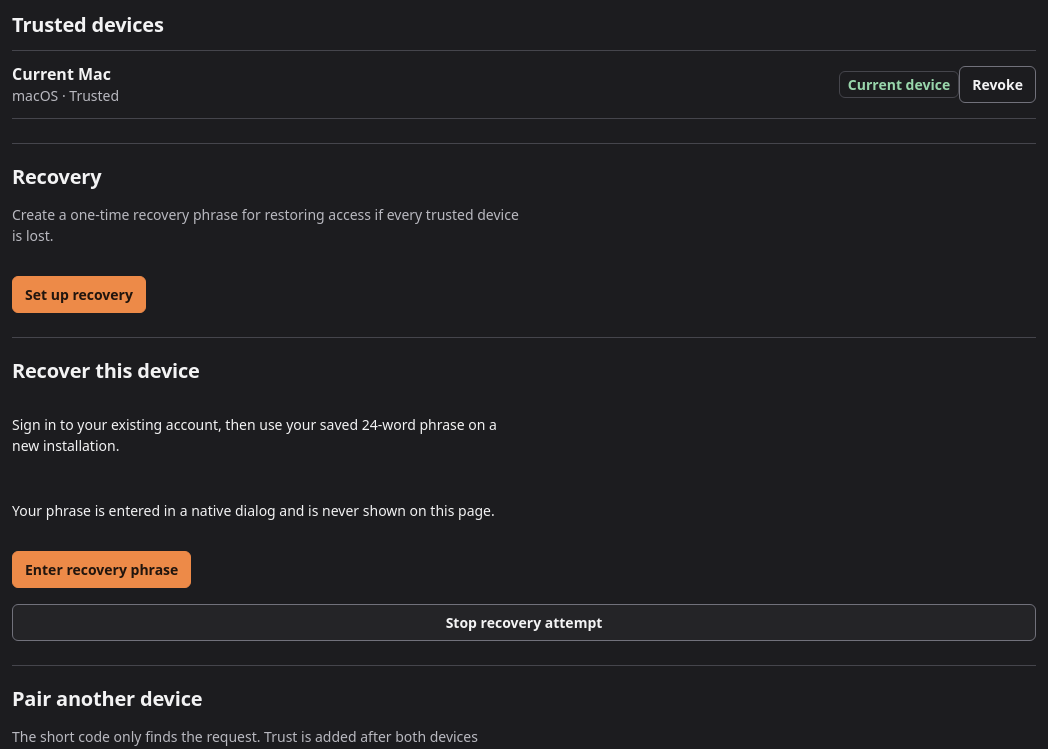
Test: DevicesScreen › keeps an unknown confirmation outcome closed until status can be retried
Click the button "Set up recovery" at (79, 295), box [12,276,146,313]
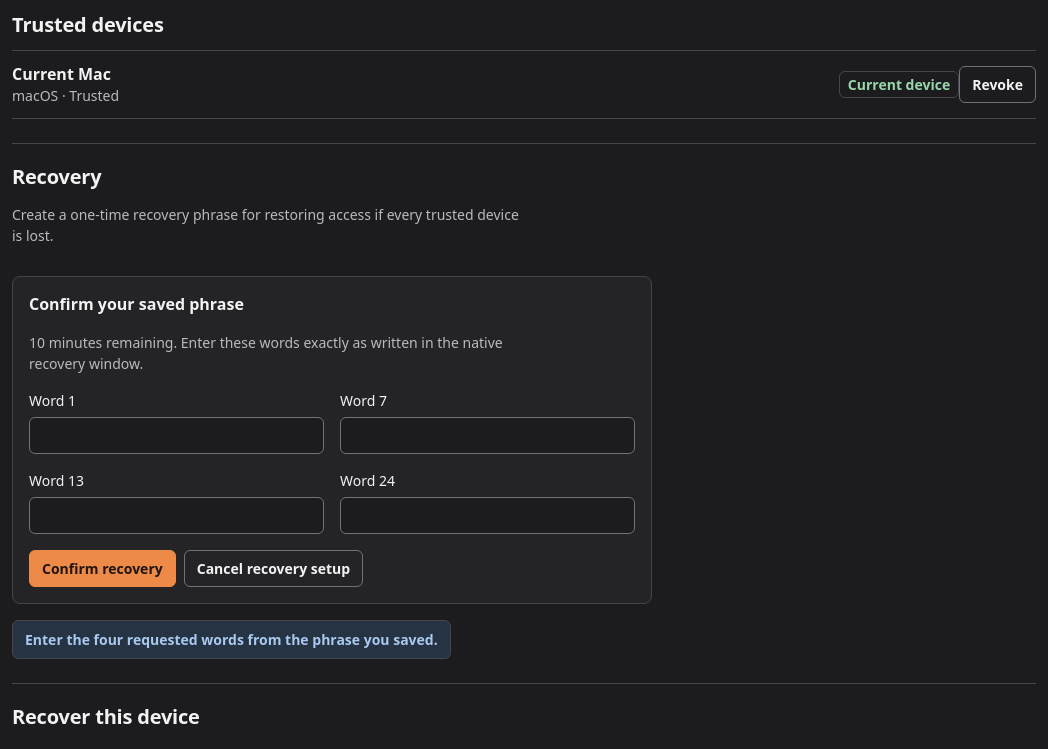
Type "abandon" into the field labelled "Word 1" at (176, 435), box [29,417,324,454]
Type "ability" into the field labelled "Word 7" at (488, 435), box [340,417,635,454]
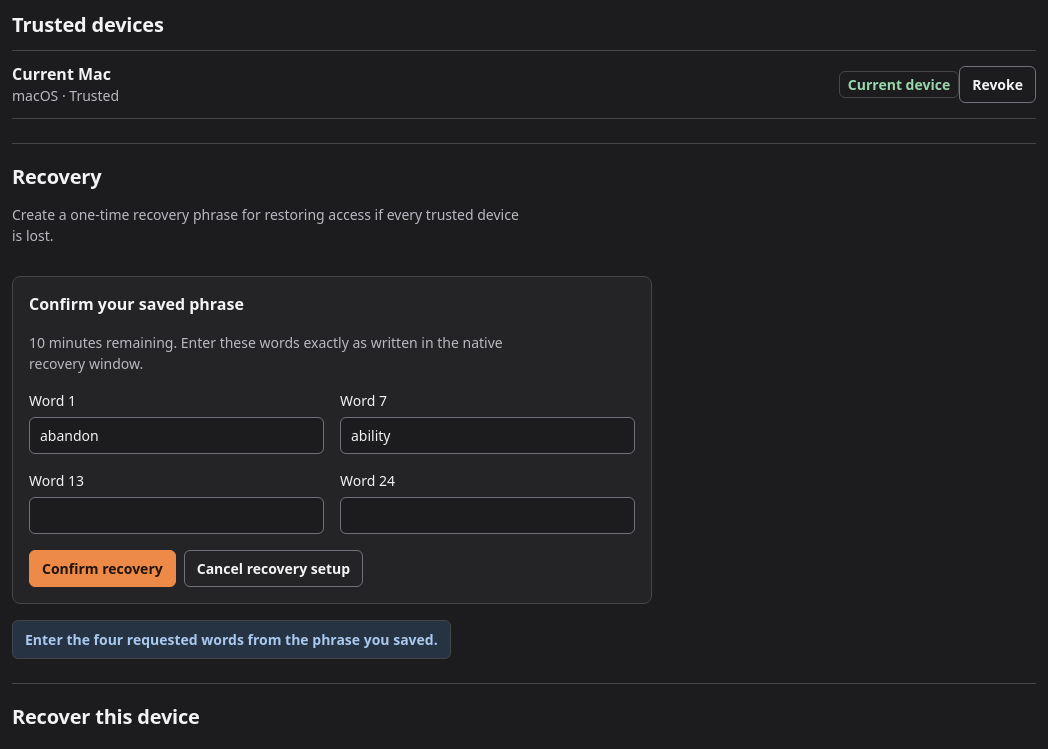
Type "able" into the field labelled "Word 13" at (176, 515), box [29,497,324,534]
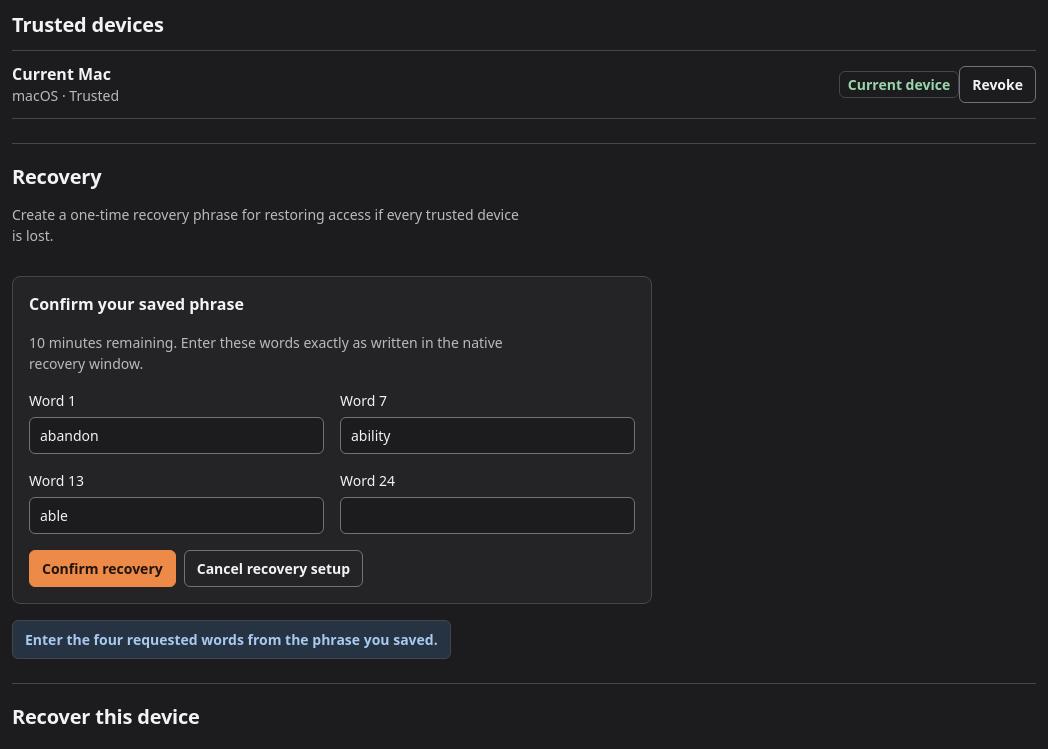
Type "about" into the field labelled "Word 24" at (488, 515), box [340,497,635,534]
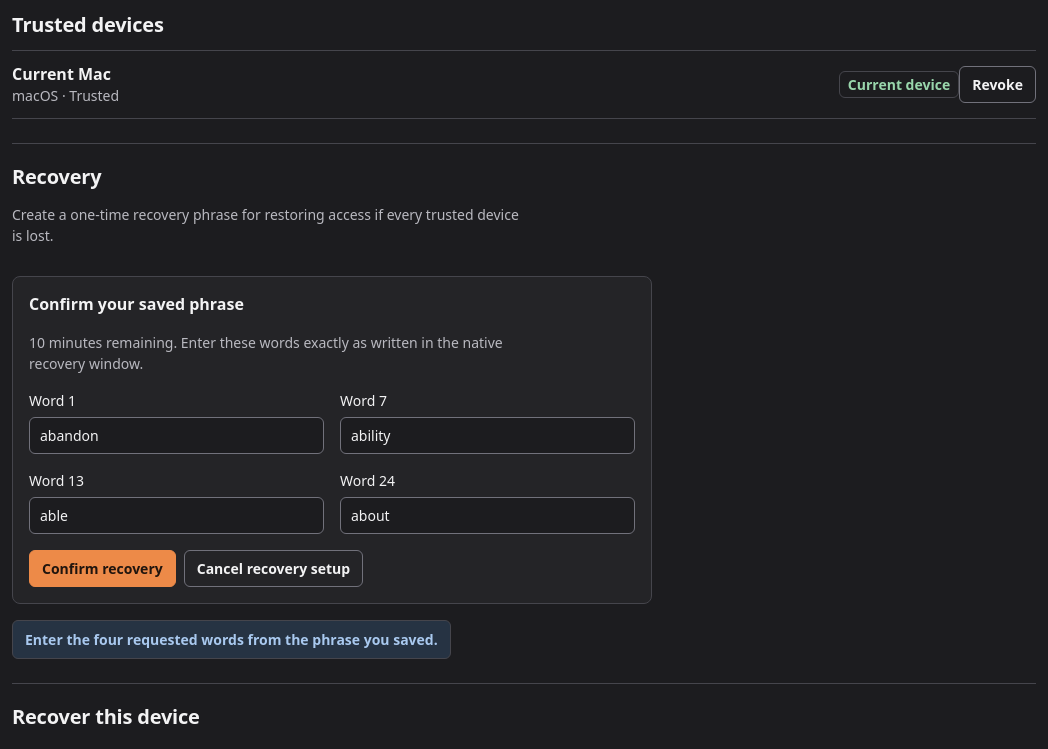
Submit the form named "Confirm recovery phrase", box [12,276,652,604]
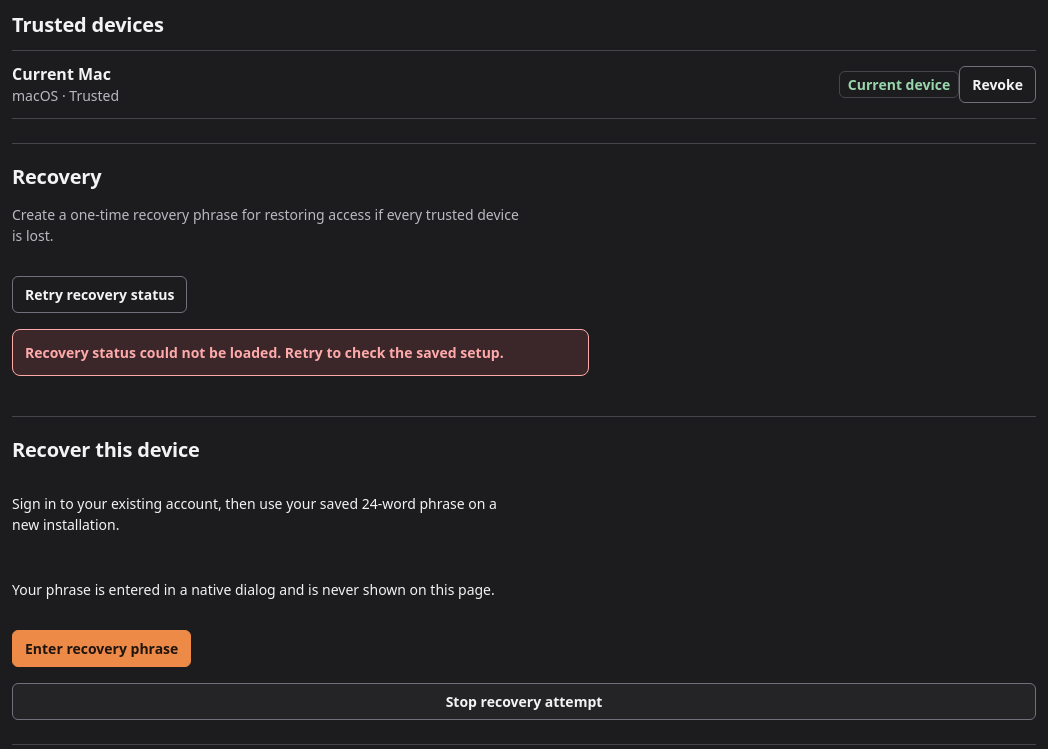
Expected: the button "Set up recovery" is not shown
Click the button "Retry recovery status" at (100, 295), box [12,276,187,313]
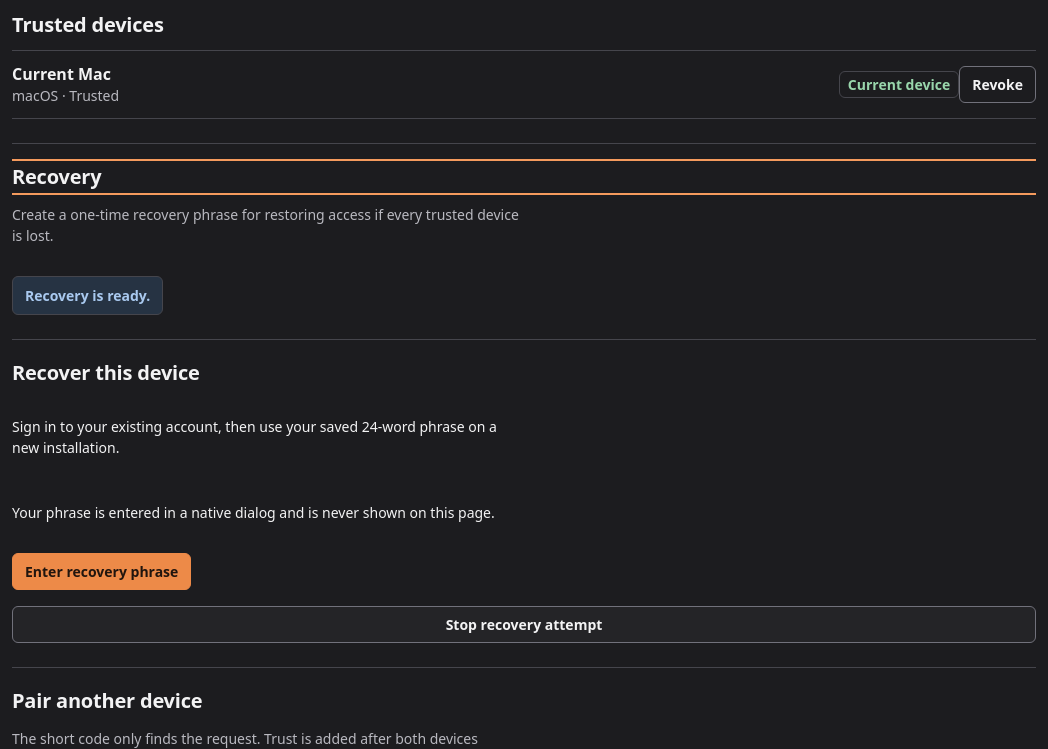
Now the message reads "Recovery is ready.", box [25,286,150,305]
